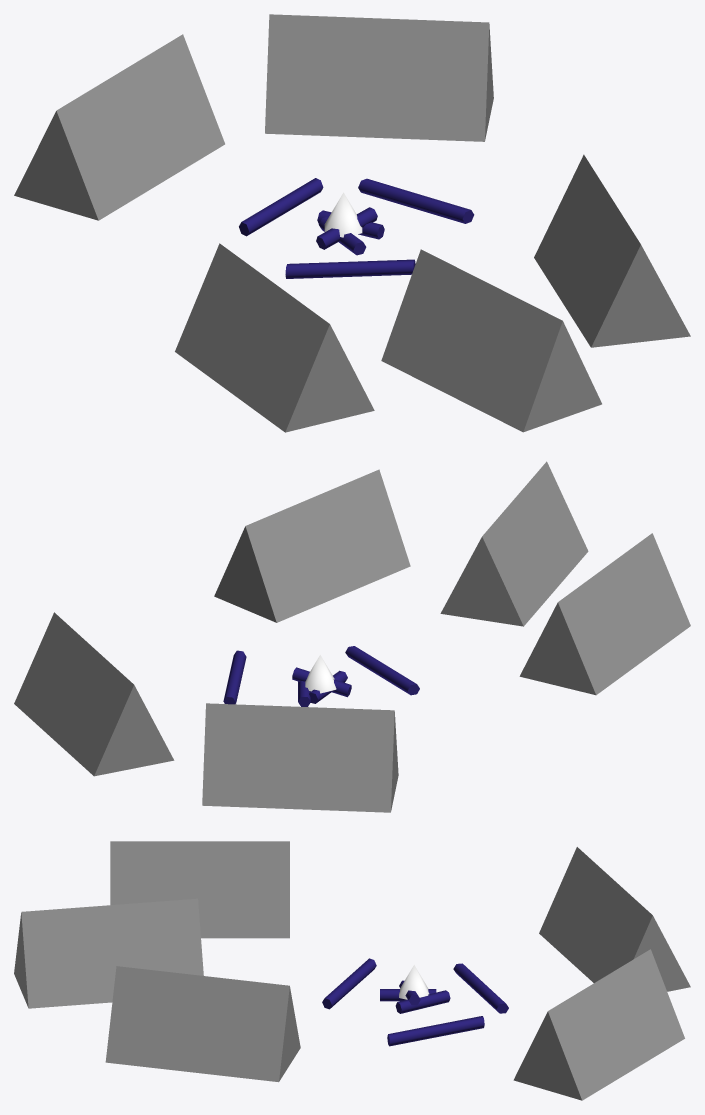
The model's file is camp_1.FBX.
The picture shows the model from 3 angles, top to bottom: view 1: azimuth 30°, elevation 25°; view 2: azimuth 150°, elevation 25°; view 3: azimuth 270°, elevation 25°; orthographic projection. The views are drawn at different scales.
Parts seen in each view (by area): view 1: Box005; view 2: Box005; view 3: Box005.
Part boxes in pixels (bbox=[...]): Box005: bbox=[14, 14, 690, 432]; Box005: bbox=[14, 461, 690, 812]; Box005: bbox=[14, 841, 690, 1100].
Size of the model in its own units: 164 by 31.35 by 237.
